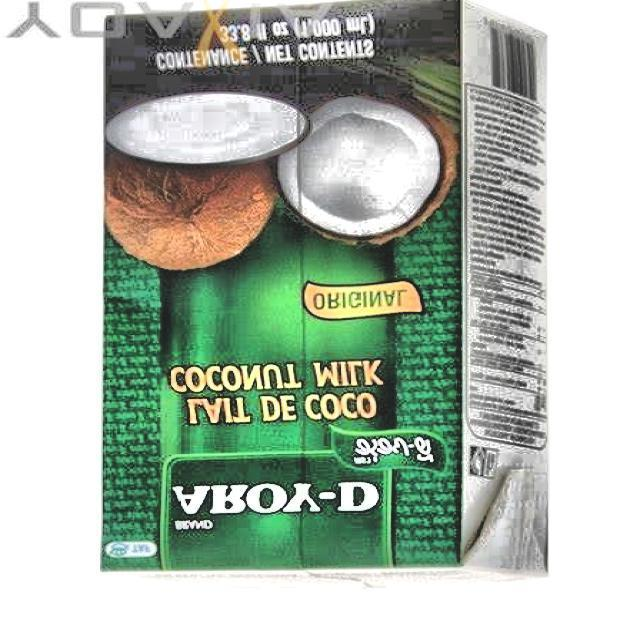cardboard: (100, 0, 550, 587)
